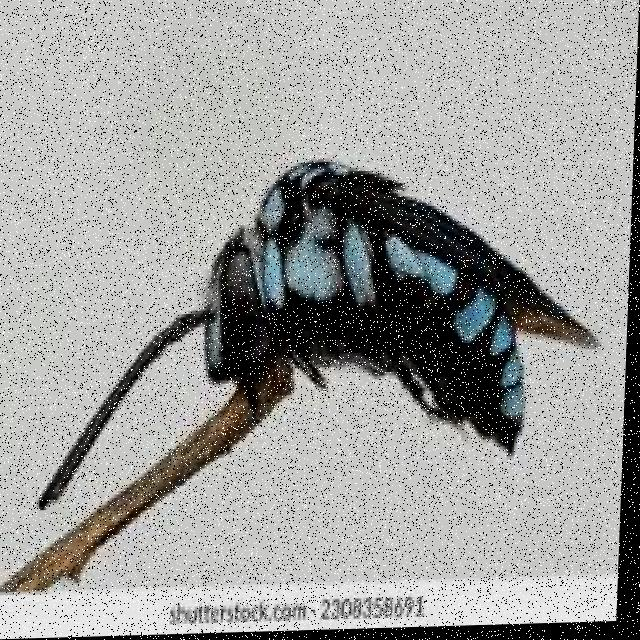Thyreus: (13, 75, 583, 511)
